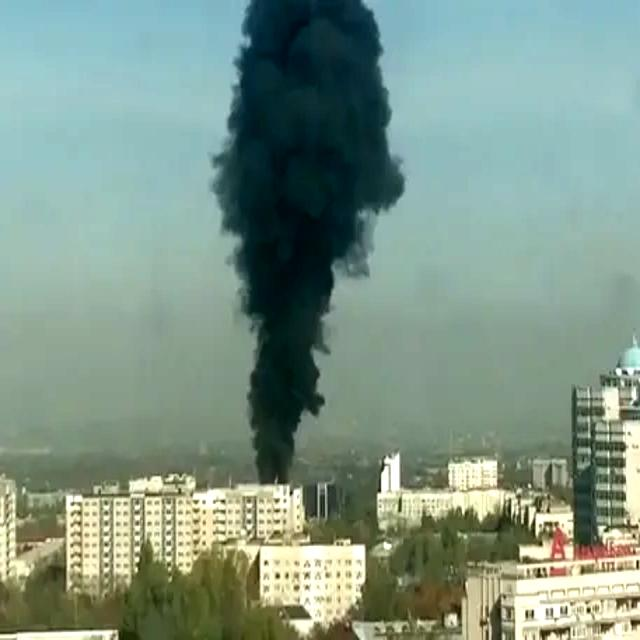no_helmet: (212, 0, 407, 476)
